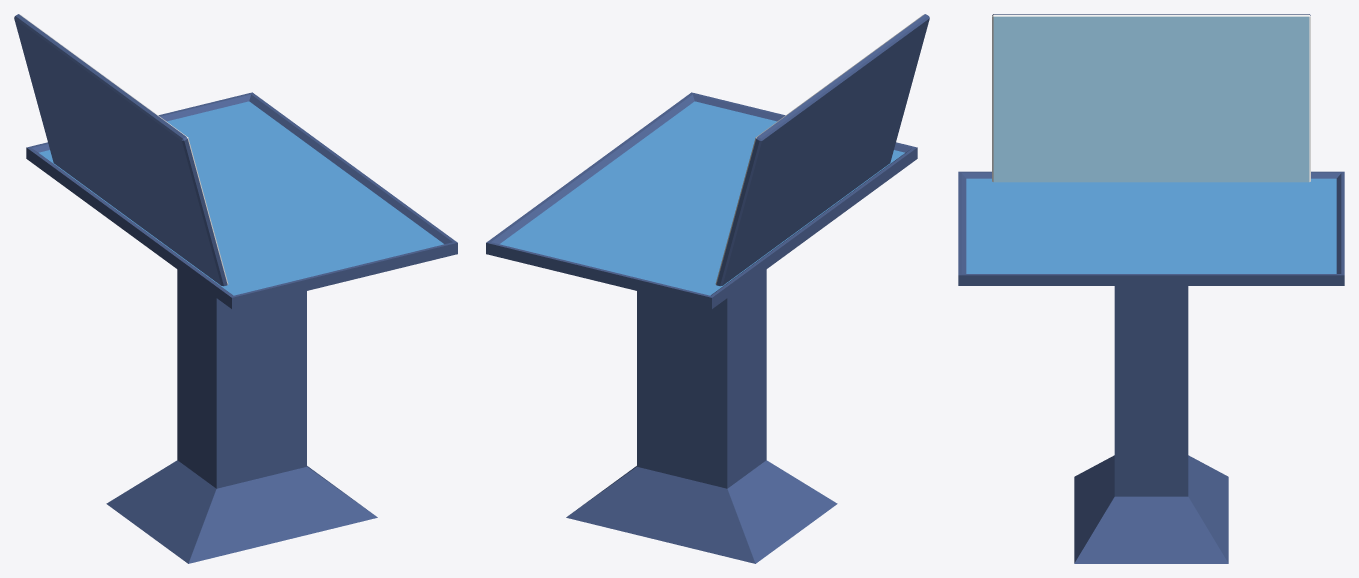
File: SettingsTable.fbx
The picture shows the model from 3 angles, left to right: view 1: azimuth 30°, elevation 25°; view 2: azimuth 150°, elevation 25°; view 3: azimuth 270°, elevation 25°; orthographic projection. The views are drawn at different scales.
Parts seen in each view (by area): view 1: Cube.002; view 2: Cube.002; view 3: Cube.002.
Part boxes in pixels (x1,y1,x2,y2): Cube.002: [14, 14, 457, 563]; Cube.002: [486, 14, 929, 563]; Cube.002: [958, 14, 1344, 563].
Bounding box in the file's own units: 228 × 397 × 315.
